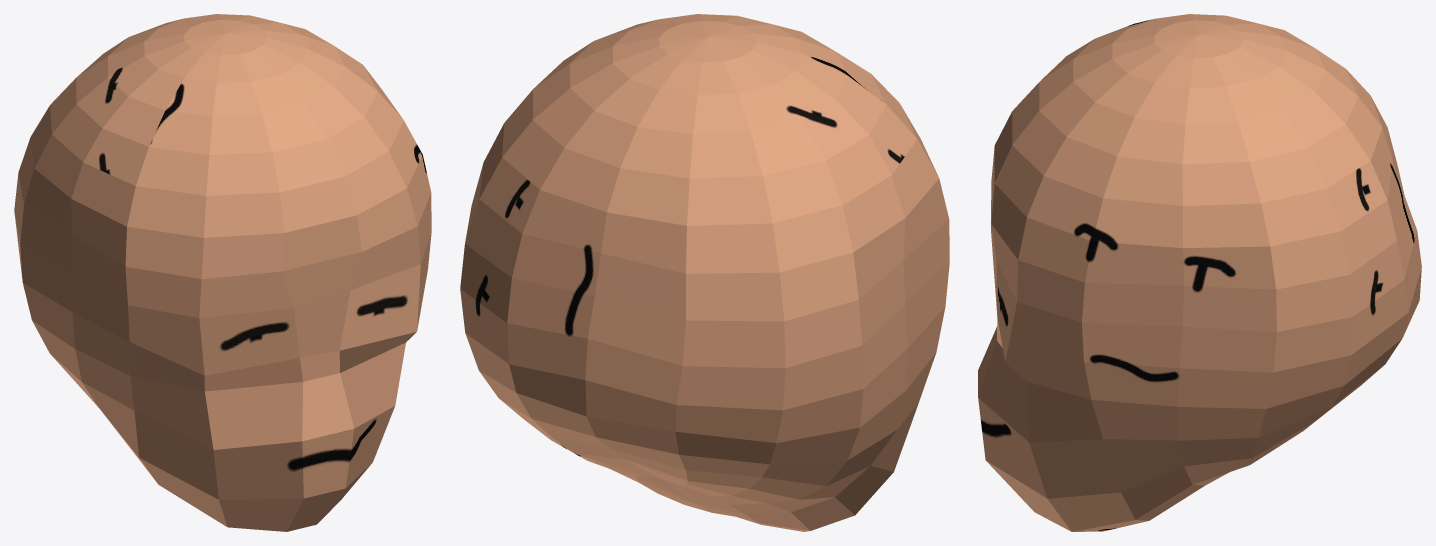
The model's file is blinkface.fbx.
The picture shows the model from 3 angles, left to right: view 1: azimuth 30°, elevation 25°; view 2: azimuth 150°, elevation 25°; view 3: azimuth 270°, elevation 25°; orthographic projection. The views are drawn at different scales.
Parts seen in each view (by area): view 1: Sphere; view 2: Sphere; view 3: Sphere.
Boxes of the visible parts, bbox=[...] form: Sphere: bbox=[14, 14, 431, 531]; Sphere: bbox=[460, 14, 949, 531]; Sphere: bbox=[978, 14, 1421, 531].
Size of the model in its own units: 182 by 231 by 194.
Materials: 1 (1 with a texture image).
